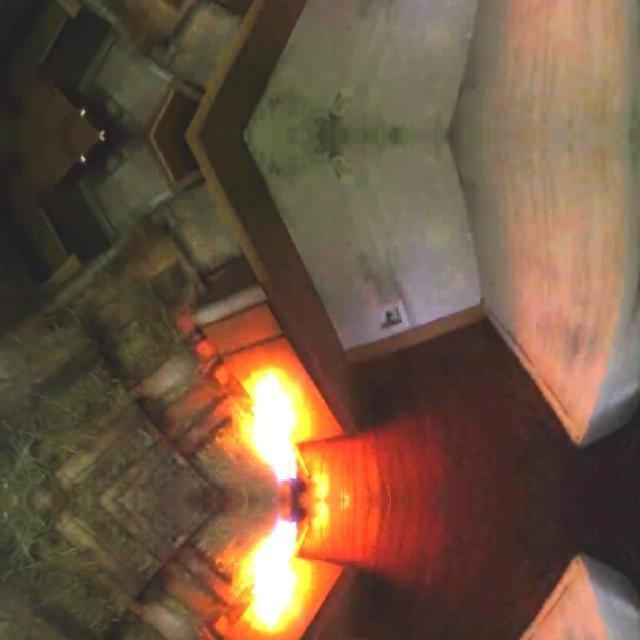smoke: (240, 366, 311, 484), (240, 516, 311, 634)
